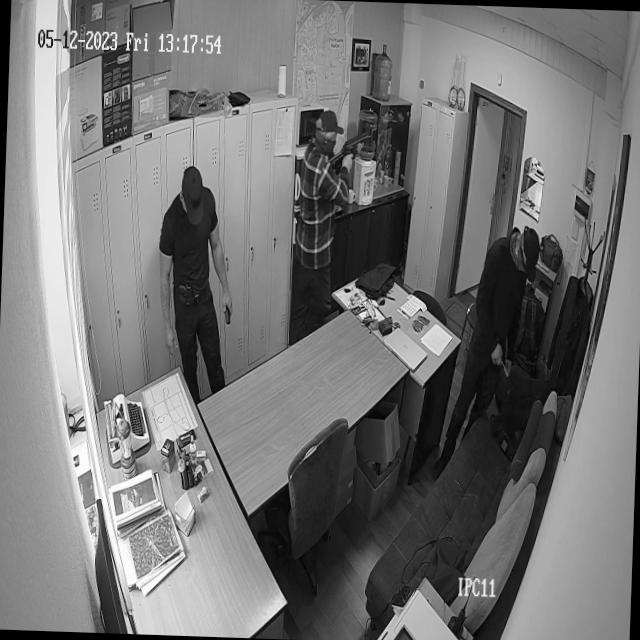gun: (328, 130, 372, 172)
person: (431, 223, 542, 479), (154, 162, 238, 402)
person with a gun: (293, 106, 373, 324)
